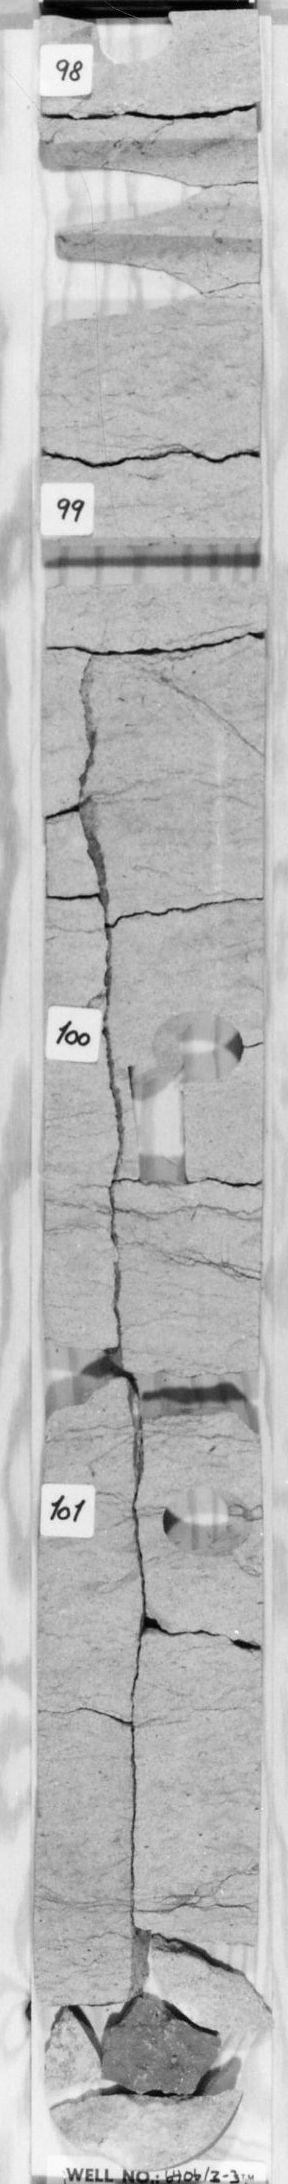hplug: (40, 533, 263, 602), (145, 1004, 253, 1091), (157, 1483, 257, 1561), (79, 15, 186, 71)
scal: (45, 130, 260, 234), (49, 233, 257, 323)
vplug: (118, 1066, 195, 1191)
